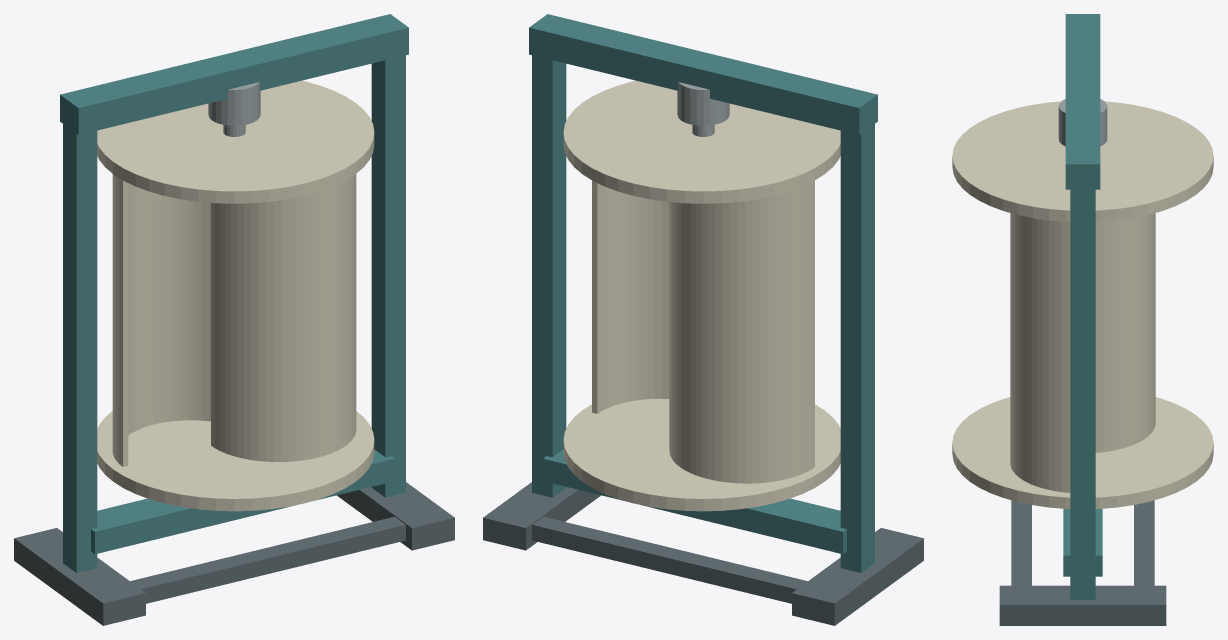
3 views of the same model, side by side, from view 1: azimuth 30°, elevation 25°; view 2: azimuth 150°, elevation 25°; view 3: azimuth 270°, elevation 25° (orthographic). The views are drawn at different scales.
Parts seen in each view (by area): view 1: WholeOpenConcaveCup1, WholeOpenConcaveCup-1, WholeRotorEndDisc1.835, WholeGroundFrame, WholeRotorEndDisc0.465, WholeTopBearingBridge, WholePortalPost-1, WholePortalPost1, WholeLowBearingBridge, WholeBearingCollar2.02; view 2: WholeOpenConcaveCup-1, WholeRotorEndDisc1.835, WholeGroundFrame, WholeOpenConcaveCup1, WholeTopBearingBridge, WholeRotorEndDisc0.465, WholePortalPost-1, WholePortalPost1, WholeLowBearingBridge, WholeBearingCollar2.02; view 3: WholeRotorEndDisc1.835, WholeOpenConcaveCup1, WholeRotorEndDisc0.465, WholeOpenConcaveCup-1, WholePortalPost1, WholeGroundFrame, WholeTopBearingBridge, WholeLowBearingBridge, WholeBearingCollar2.02.
Boxes of the visible parts, x1,y1,x2,y2 form: WholeOpenConcaveCup1: (211, 174, 356, 461); WholeOpenConcaveCup-1: (112, 174, 210, 466); WholeRotorEndDisc1.835: (97, 80, 374, 203); WholeGroundFrame: (14, 482, 454, 625); WholeRotorEndDisc0.465: (97, 411, 374, 511); WholeTopBearingBridge: (60, 14, 408, 134); WholePortalPost-1: (63, 124, 97, 572); WholePortalPost1: (371, 55, 405, 497); WholeLowBearingBridge: (91, 449, 395, 554); WholeBearingCollar2.02: (208, 82, 260, 125); WholeOpenConcaveCup-1: (669, 180, 814, 483); WholeRotorEndDisc1.835: (563, 80, 840, 203); WholeGroundFrame: (483, 482, 923, 625); WholeOpenConcaveCup1: (592, 180, 669, 413); WholeTopBearingBridge: (529, 14, 877, 134); WholeRotorEndDisc0.465: (563, 398, 840, 511); WholePortalPost-1: (840, 124, 874, 572); WholePortalPost1: (532, 55, 566, 497); WholeLowBearingBridge: (542, 449, 846, 554); WholeBearingCollar2.02: (677, 82, 729, 125); WholeRotorEndDisc1.835: (952, 101, 1213, 221); WholeOpenConcaveCup1: (1010, 213, 1070, 492); WholeRotorEndDisc0.465: (952, 397, 1213, 508); WholeOpenConcaveCup-1: (1095, 213, 1155, 452); WholePortalPost1: (1070, 189, 1095, 599); WholeGroundFrame: (999, 500, 1166, 625); WholeTopBearingBridge: (1065, 14, 1100, 189); WholeLowBearingBridge: (1063, 508, 1102, 576); WholeBearingCollar2.02: (1058, 99, 1107, 146).
Bounding box in the file's own units: 1.64 × 2.18 × 1.13.
